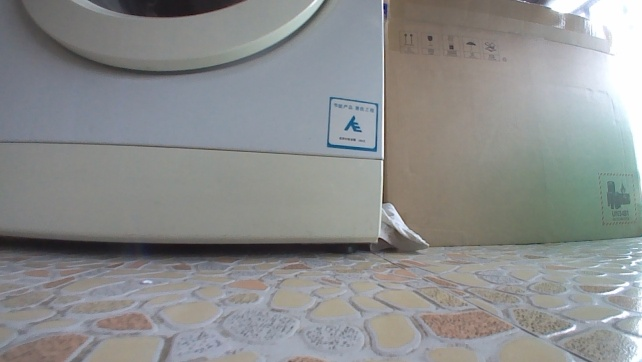washing_machine1: (0, 0, 390, 249)
